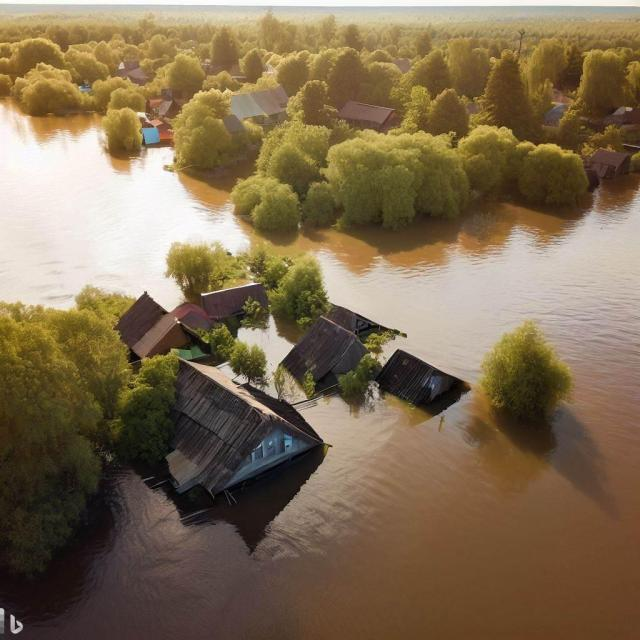flood: (0, 100, 640, 640), (238, 316, 305, 372)
house: (154, 355, 325, 506), (276, 308, 365, 400), (114, 289, 202, 359), (381, 346, 460, 410), (195, 276, 267, 316), (338, 100, 402, 132), (588, 144, 633, 184)
